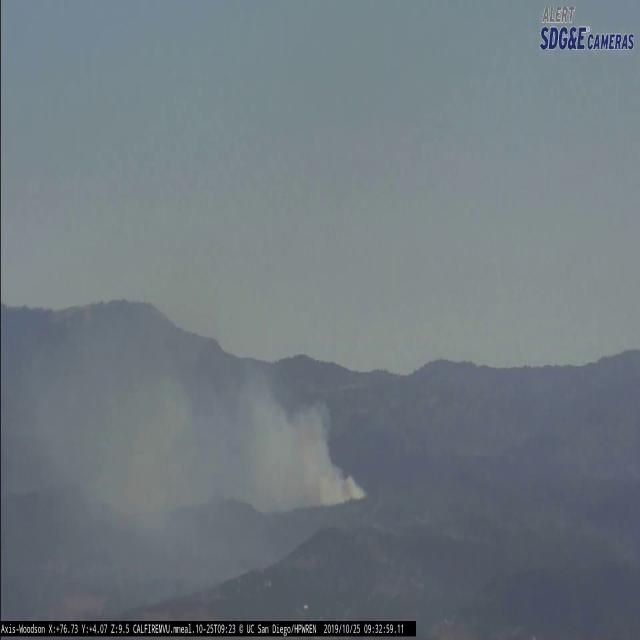smoke: (4, 274, 367, 582)
